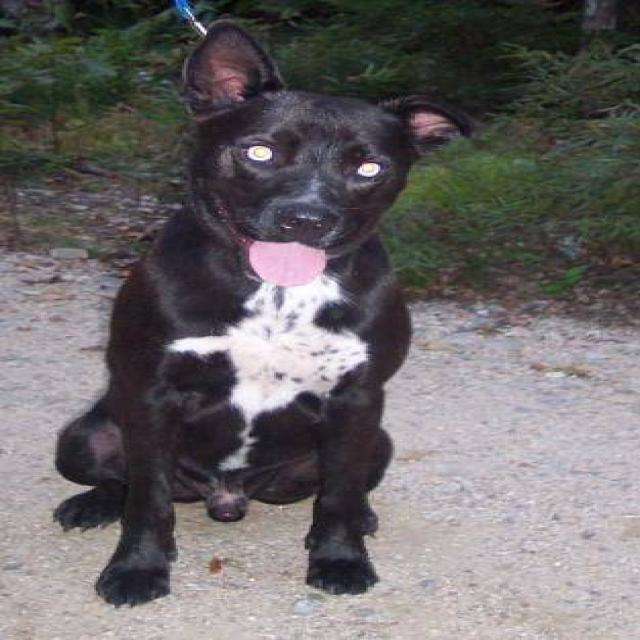dog: (49, 18, 474, 608)
